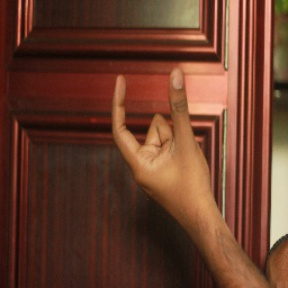U: (103, 65, 220, 197)
